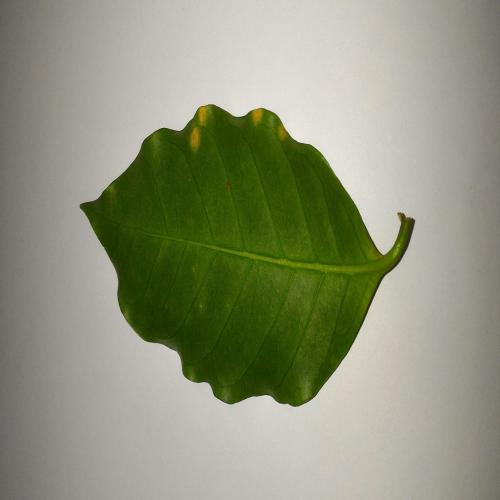phoma: (190, 105, 209, 149)
